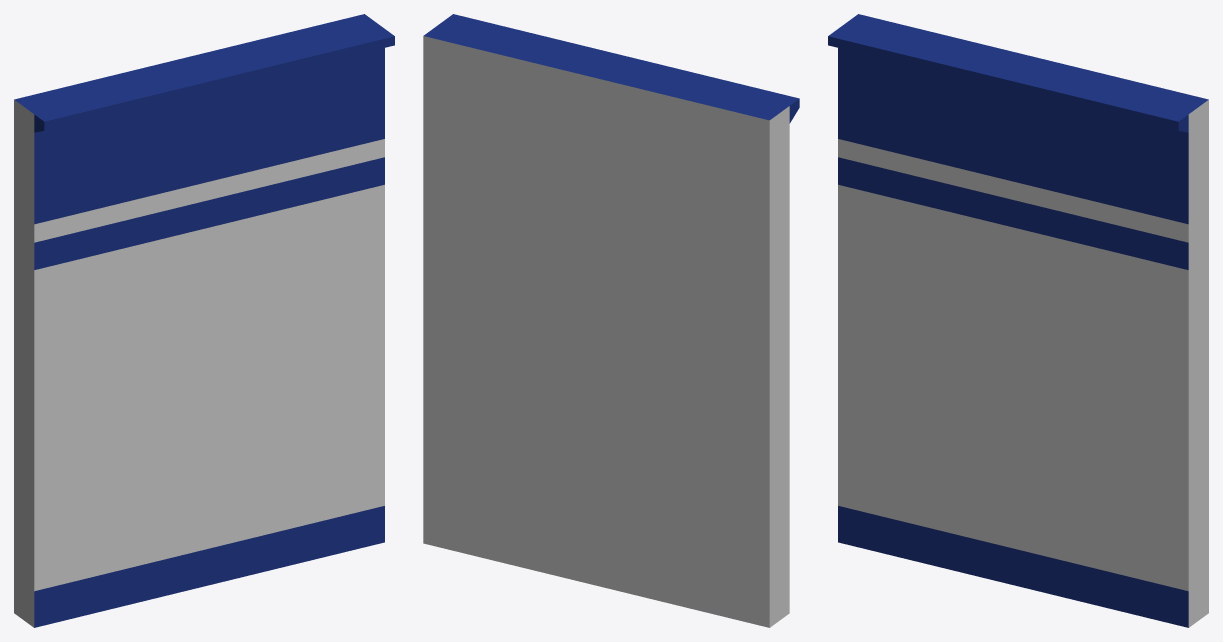
Rendered from wall_2_ext.glb.
3 views of the same model, side by side, from view 1: azimuth 30°, elevation 25°; view 2: azimuth 150°, elevation 25°; view 3: azimuth 330°, elevation 25° (orthographic).
Parts seen in each view (by area): view 1: Cube; view 2: Cube; view 3: Cube.
Part boxes in pixels (bbox=[...]): Cube: bbox=[14, 14, 394, 627]; Cube: bbox=[423, 14, 799, 627]; Cube: bbox=[828, 14, 1208, 627].
Bounding box in the file's own units: 2 × 2.8 × 0.3.
